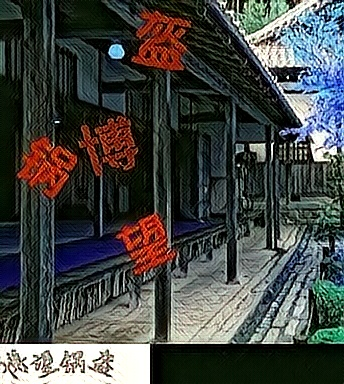B2A9: (76, 114, 138, 178)
B9F8: (14, 136, 76, 200)
BFF8: (128, 8, 190, 72)
CDFB: (115, 211, 177, 275)
